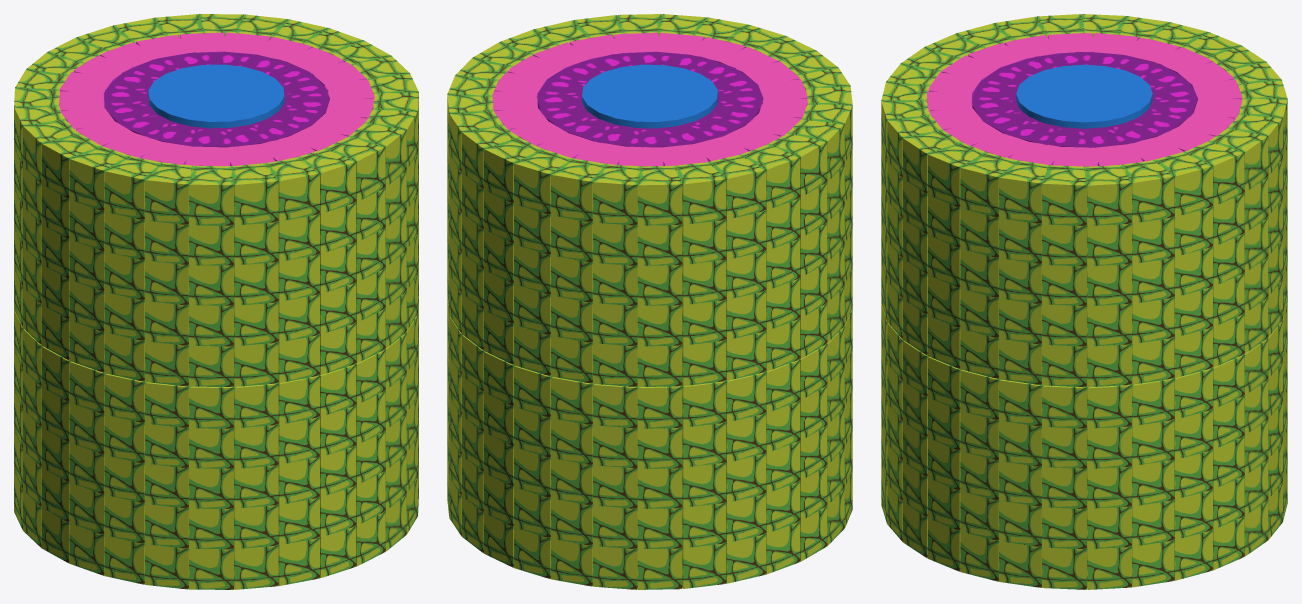
File: pillar.fbx
The picture shows the model from 3 angles, left to right: view 1: azimuth 30°, elevation 25°; view 2: azimuth 150°, elevation 25°; view 3: azimuth 270°, elevation 25°; orthographic projection.
Parts seen in each view (by area): view 1: pillar, core_pillar; view 2: pillar, core_pillar; view 3: pillar, core_pillar.
Part boxes in pixels (bbox=[...]): pillar: bbox=[14, 14, 418, 589]; core_pillar: bbox=[148, 64, 284, 128]; pillar: bbox=[447, 14, 852, 589]; core_pillar: bbox=[582, 64, 717, 128]; pillar: bbox=[881, 14, 1287, 589]; core_pillar: bbox=[1016, 64, 1152, 128].
Bounding box in the file's own units: 9.07 × 10.11 × 9.07.
